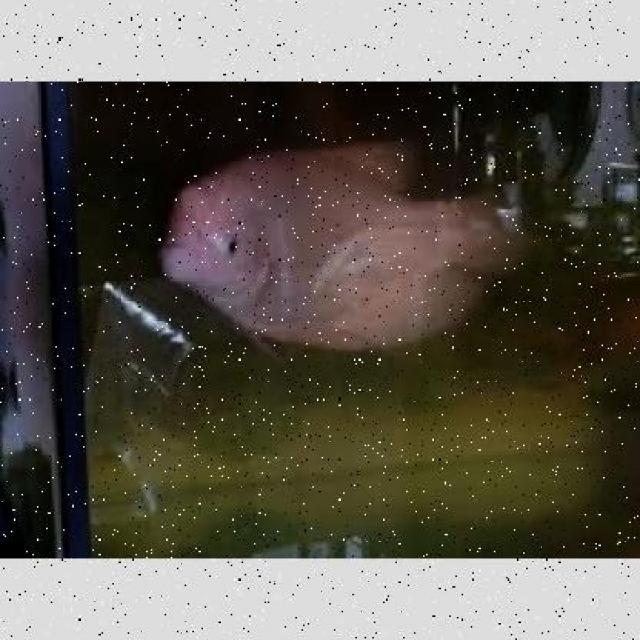gurame: (162, 144, 506, 348)
